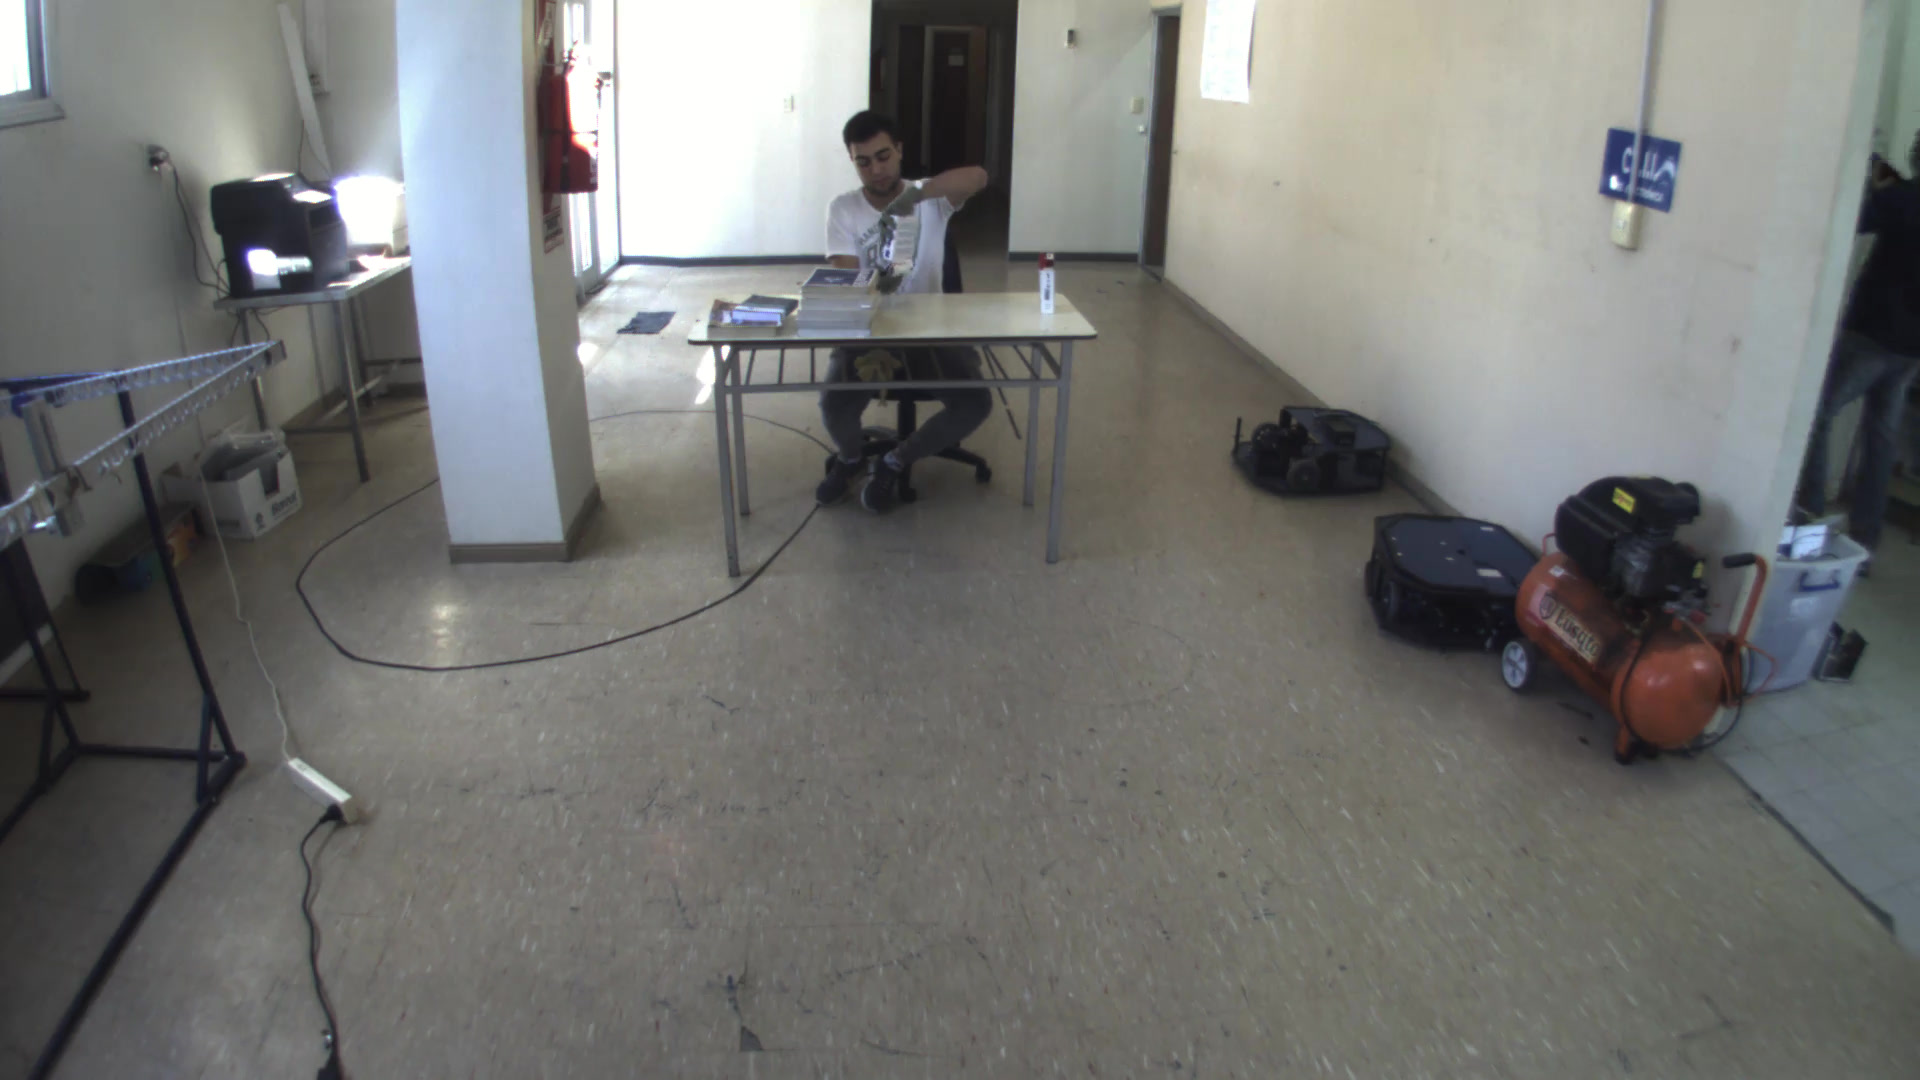hand: (868, 175, 927, 245), (868, 262, 905, 291)
